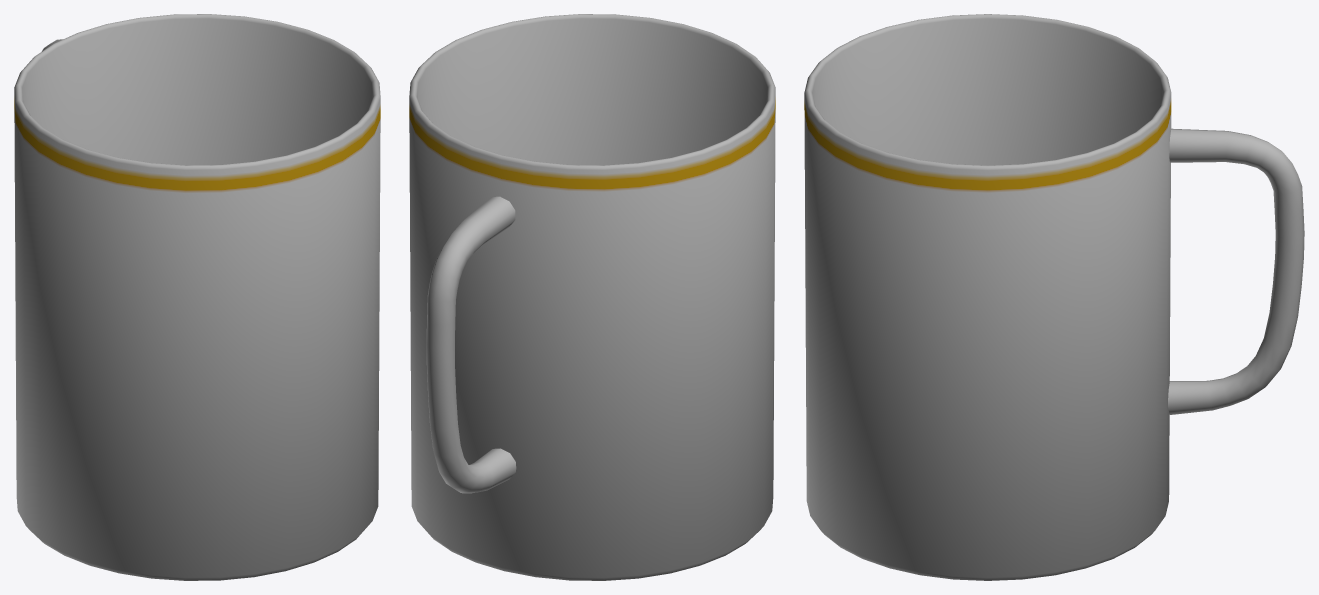
Rendered from mug white.FBX.
3 views of the same model, side by side, from view 1: azimuth 30°, elevation 25°; view 2: azimuth 150°, elevation 25°; view 3: azimuth 270°, elevation 25° (orthographic).
Visible parts, largest first — view 1: mug white; view 2: mug white; view 3: mug white.
Part boxes in pixels (x1=…): mug white: x1=14, y1=14, x2=380, y2=580; mug white: x1=409, y1=14, x2=775, y2=580; mug white: x1=804, y1=14, x2=1304, y2=580.
Bounding box in the file's own units: 3.93 × 5.36 × 4.92.
1 material, 1 textured.
